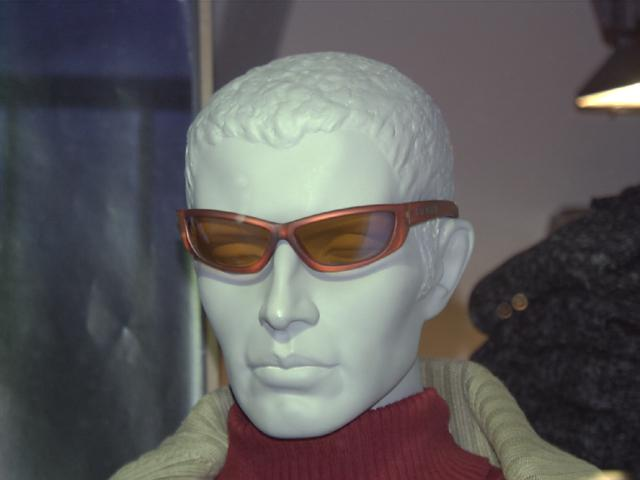Person: (72, 48, 617, 480)
